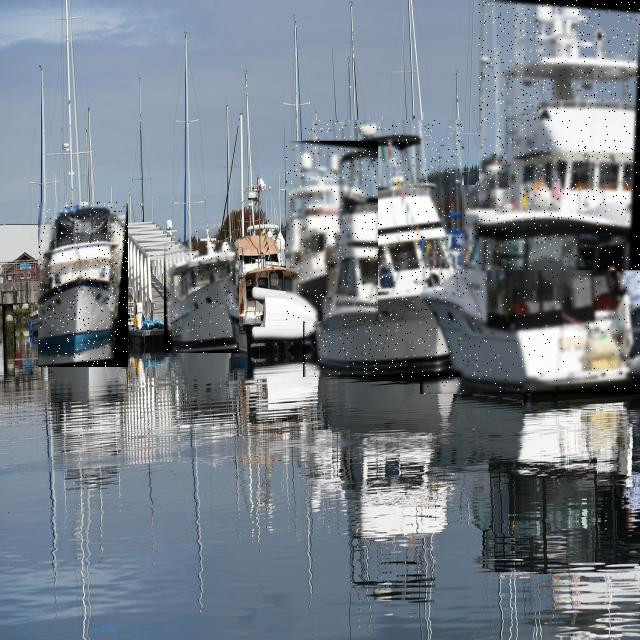boat: (420, 185, 640, 394), (479, 0, 640, 270), (304, 120, 464, 377), (286, 141, 378, 321), (38, 202, 128, 367), (164, 242, 239, 353)
